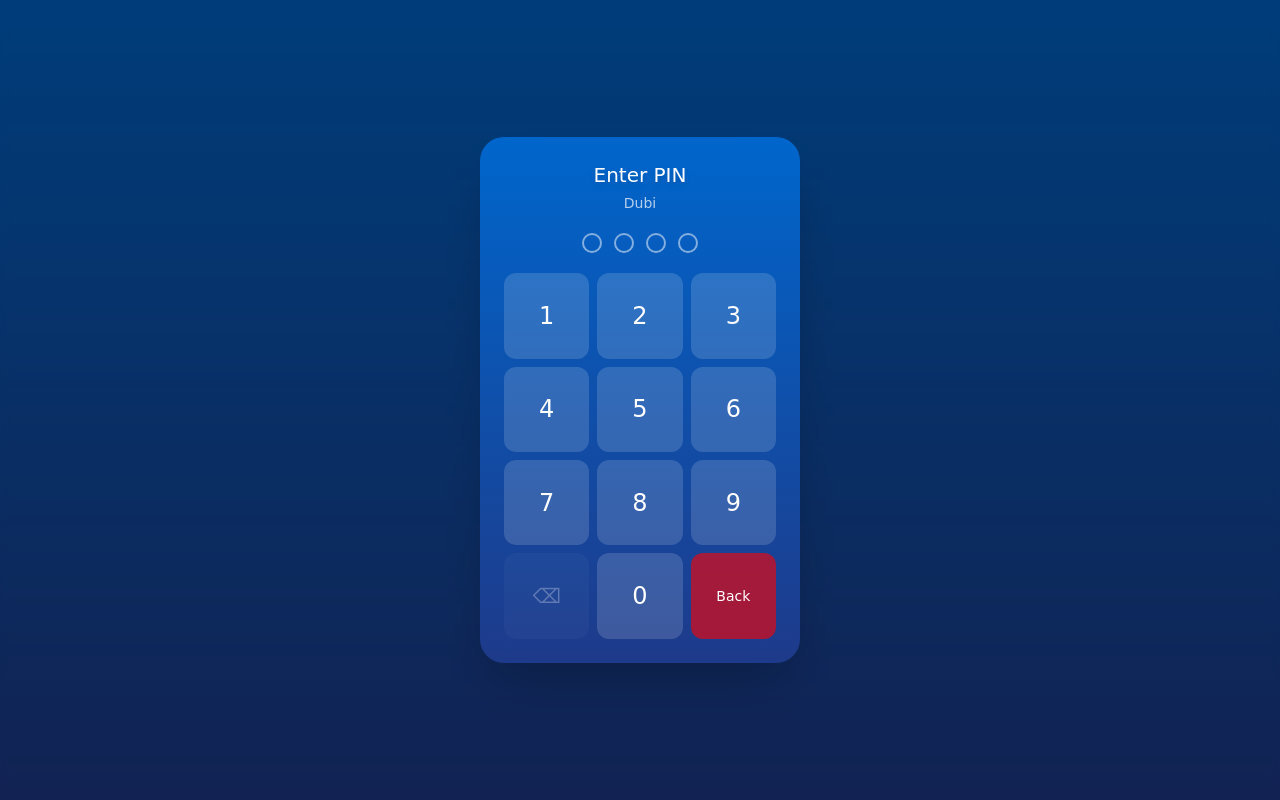
Test: PinEntry › digit input › digit buttons are disabled when all 4 digits are entered
The width and height of the screenshot is (1280, 800).
Click the button named "Digit 1" at (547, 316), box [504, 273, 589, 359]
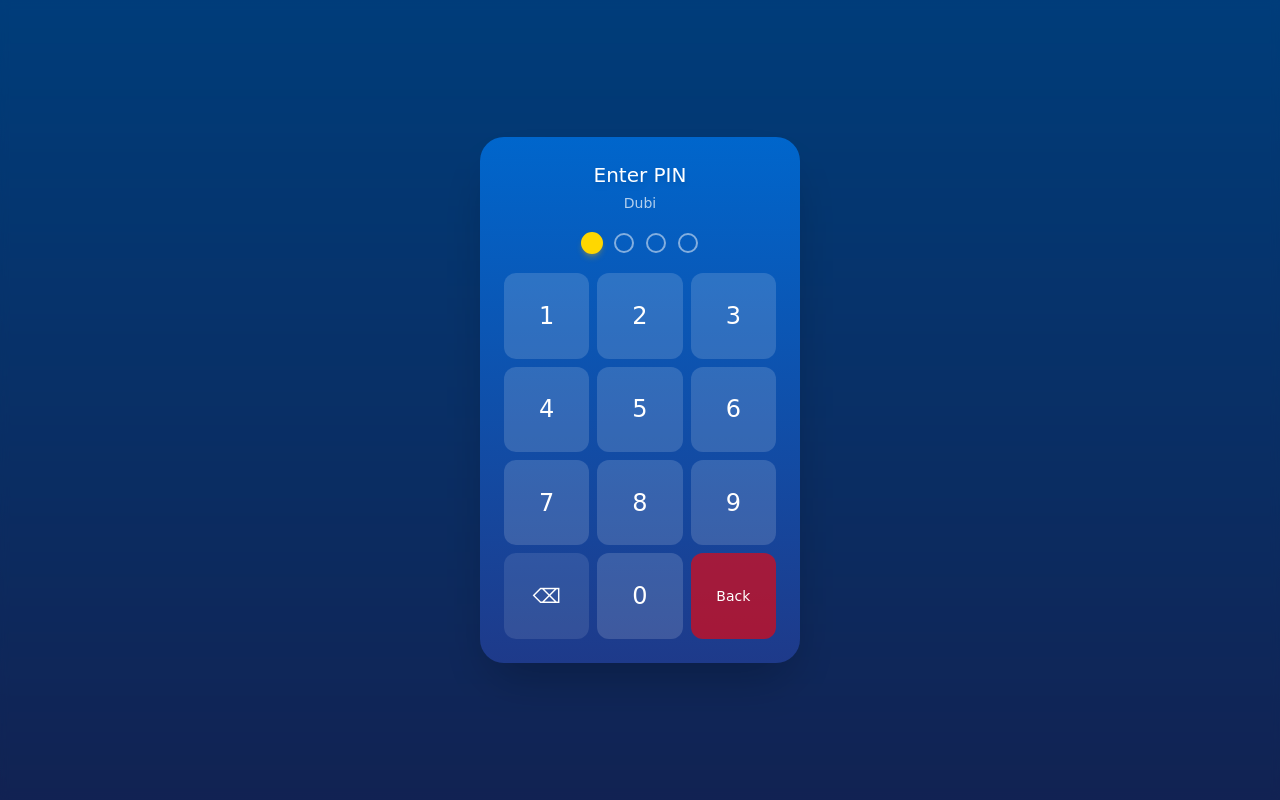
Click the button named "Digit 2" at (640, 316), box [597, 273, 683, 359]
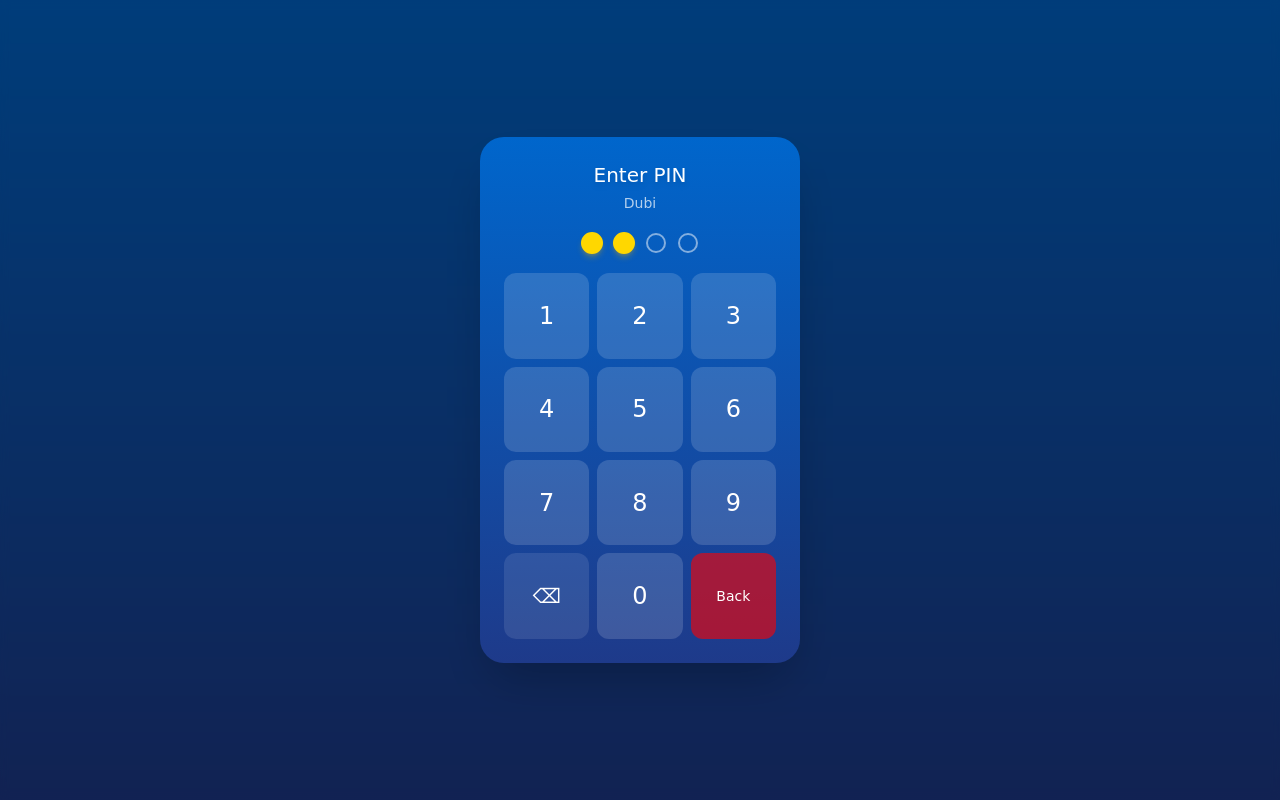
Click the button named "Digit 3" at (733, 316), box [691, 273, 776, 359]
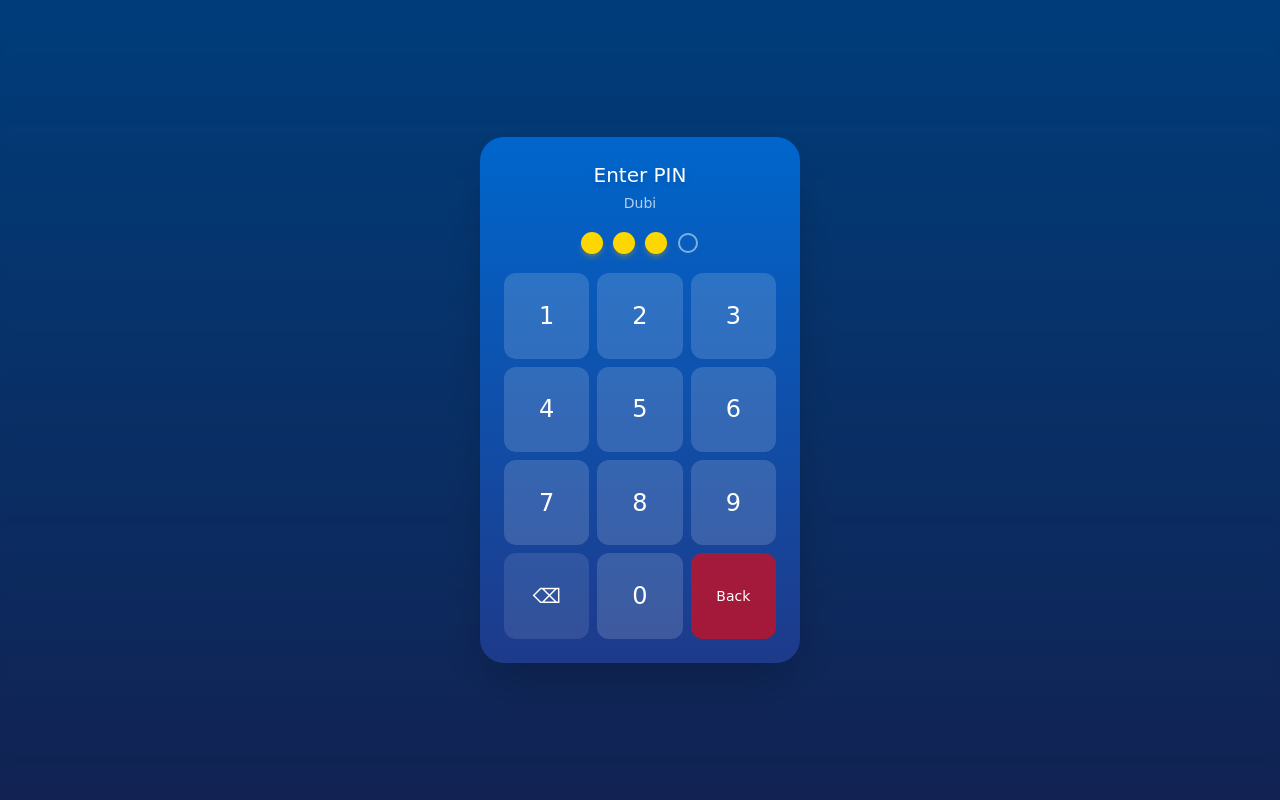
Click the button named "Digit 4" at (547, 409), box [504, 367, 589, 452]
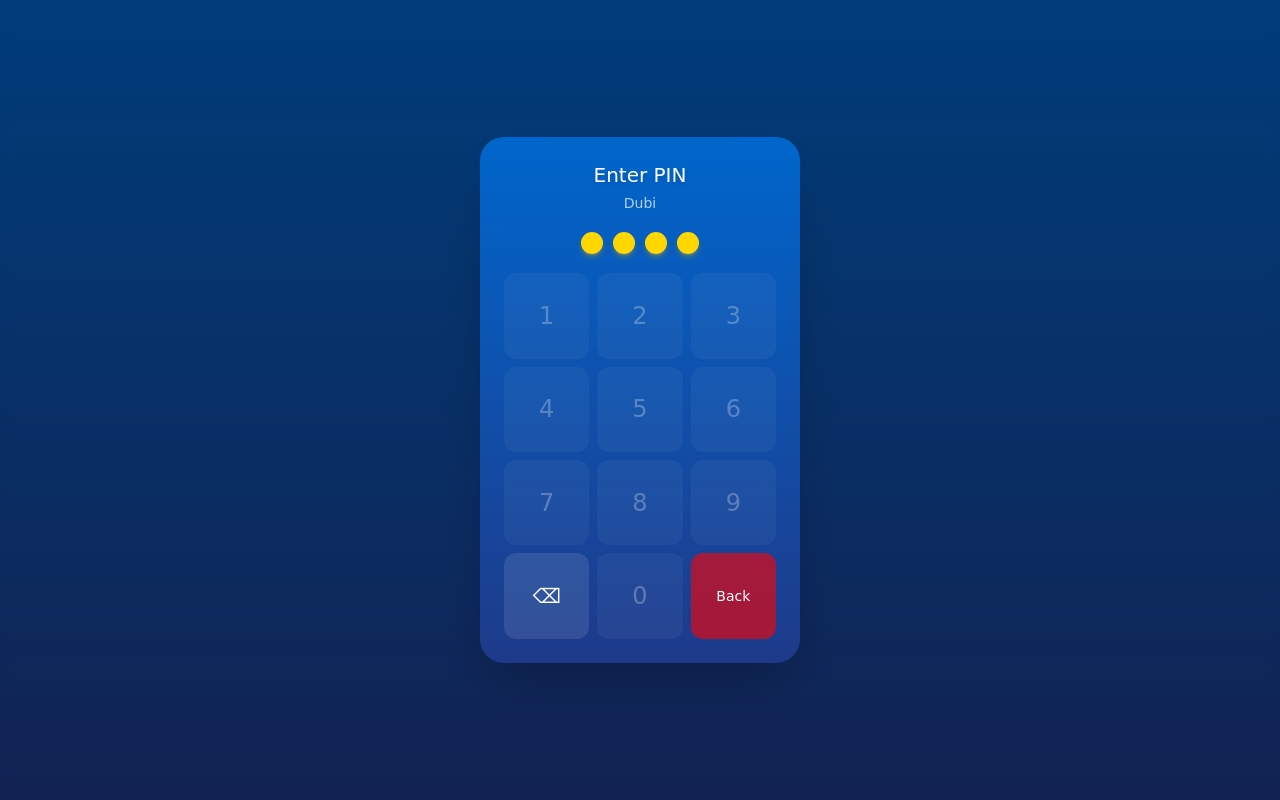
Expected: the button named "Digit 5" is disabled, [597, 367, 683, 452]
